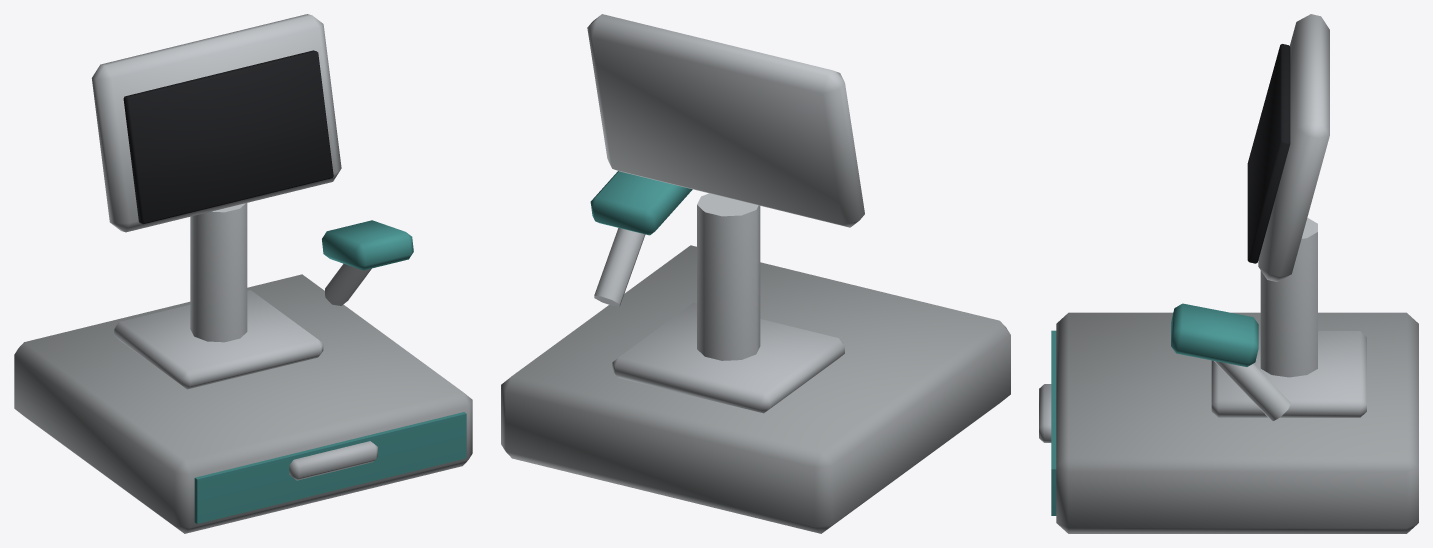
File: SM_POS_Terminal_01.glb
3 views of the same model, side by side, from view 1: azimuth 30°, elevation 25°; view 2: azimuth 150°, elevation 25°; view 3: azimuth 270°, elevation 25° (orthographic). The views are drawn at different scales.
Parts seen in each view (by area): view 1: SM_POS_Terminal_01; view 2: SM_POS_Terminal_01; view 3: SM_POS_Terminal_01.
Boxes of the visible parts, bbox=[...] form: SM_POS_Terminal_01: bbox=[14, 14, 472, 533]; SM_POS_Terminal_01: bbox=[501, 14, 1010, 533]; SM_POS_Terminal_01: bbox=[1039, 14, 1418, 533].
Size of the model in its own units: 0.42 by 0.5052 by 0.44.
1 material, 1 textured.
